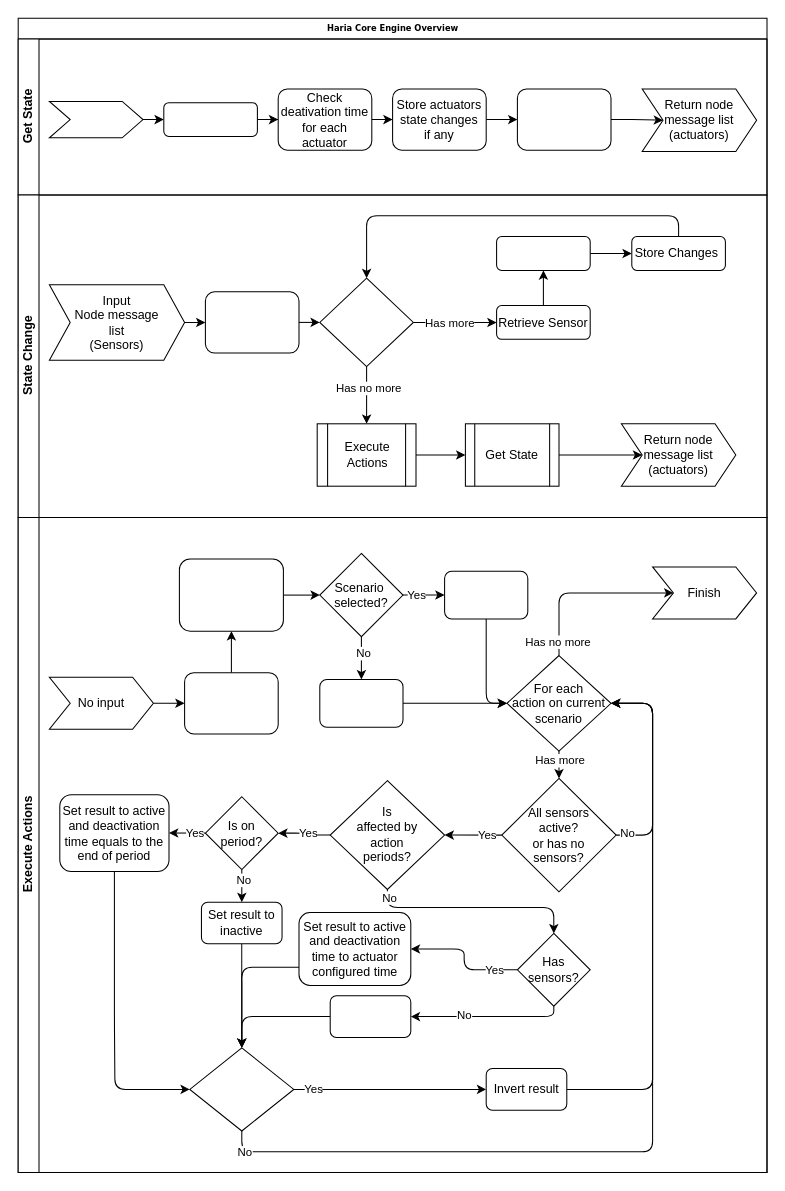
Some shapes in this 785 by 1191 pixel diagram are drawn without their labels. Here are the shapes that lost their labels. From the top down, the centre of each, then its label:
(x=95, y=119): Input Node code
(x=210, y=119): Retrieve Node
(x=563, y=119): Convert actualor list to Node Mesage list
(x=543, y=253): Calculate Sensor state
(x=251, y=322): Set Node last update time
(x=366, y=322): For each sensor message
(x=230, y=594): Use scenario triggers for select the current scenario
(x=486, y=594): Use selected scenario
(x=231, y=703): Retrieve all scenarios
(x=361, y=702): Use default scenario
(x=370, y=1016): Set result to static state
(x=241, y=1089): Is configured to invert result?
